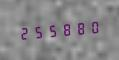eight: (60, 19, 73, 38), (74, 18, 87, 37)
five: (31, 22, 44, 41), (46, 21, 59, 40)
two: (17, 23, 30, 42)
zero: (88, 17, 101, 36)
